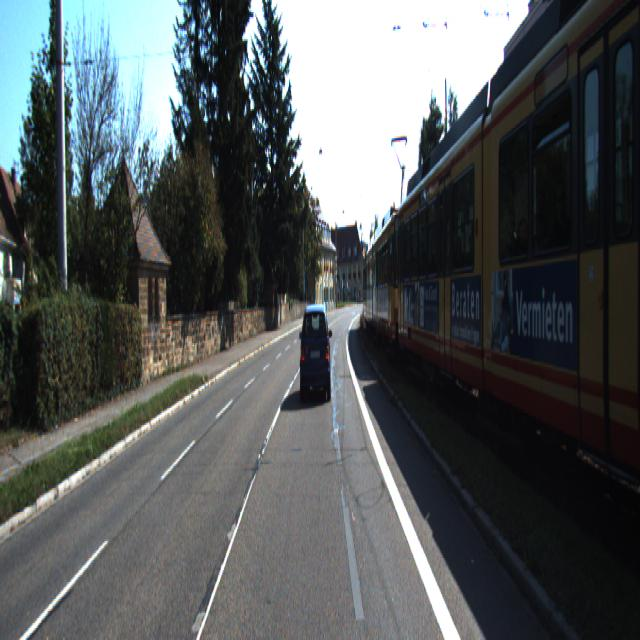Car: (479, 0, 640, 570), (398, 82, 549, 442), (371, 197, 426, 364), (300, 300, 332, 404), (366, 234, 394, 341), (362, 246, 383, 333)
